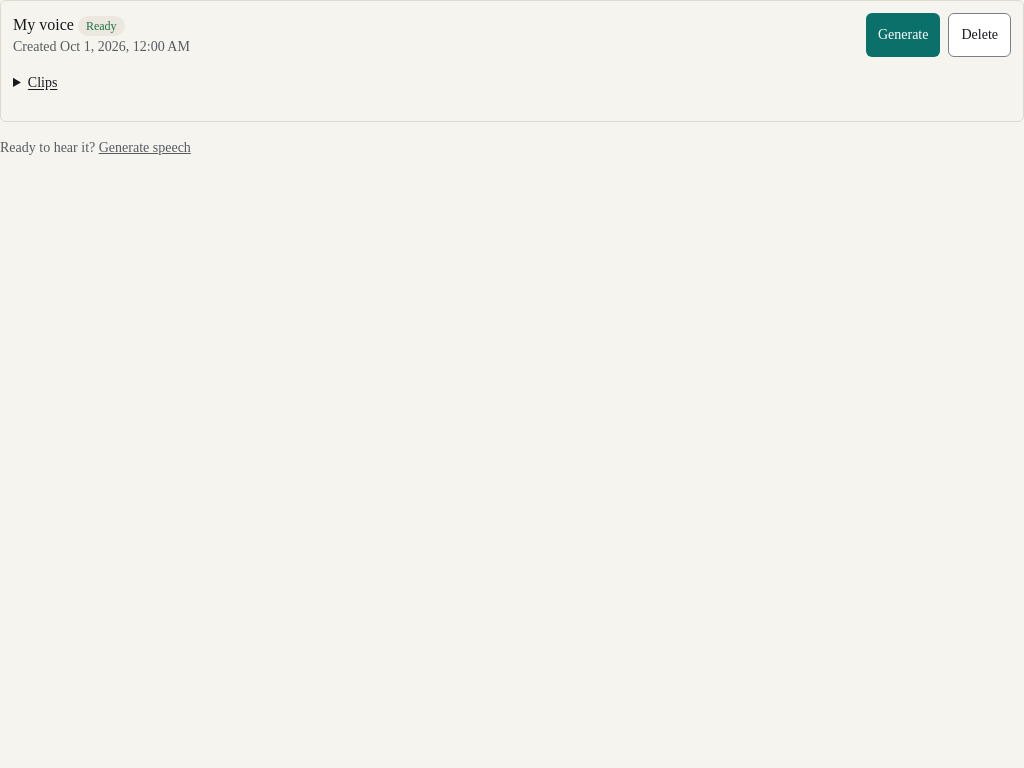
Test: VoiceProfileList › Cancel does nothing
Click the button with aria-label "Delete My voice": (980, 35) [948, 13, 1011, 57]
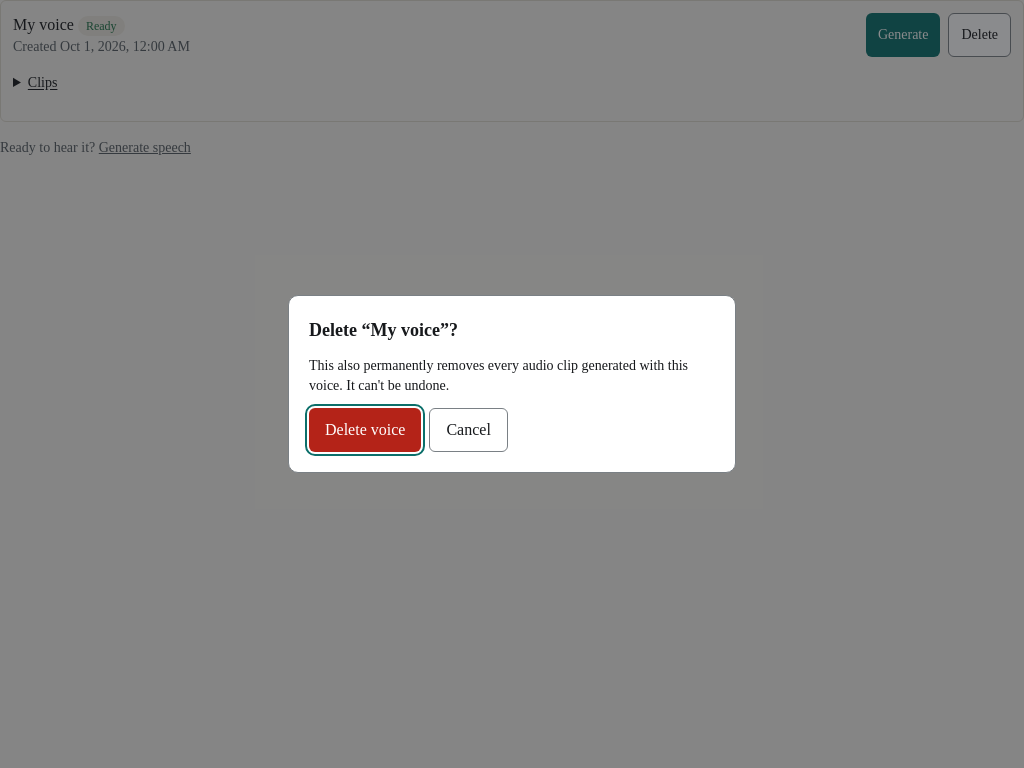
Click the button "Cancel": (469, 430) [429, 408, 508, 452]
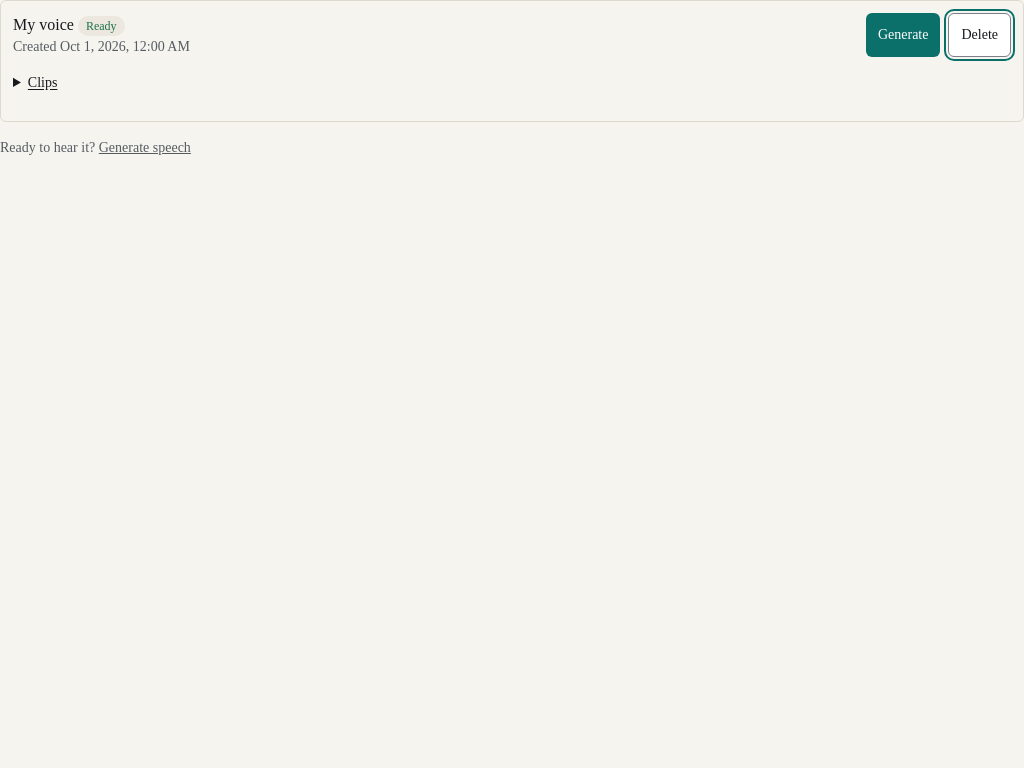
Result: the dialog is gone
